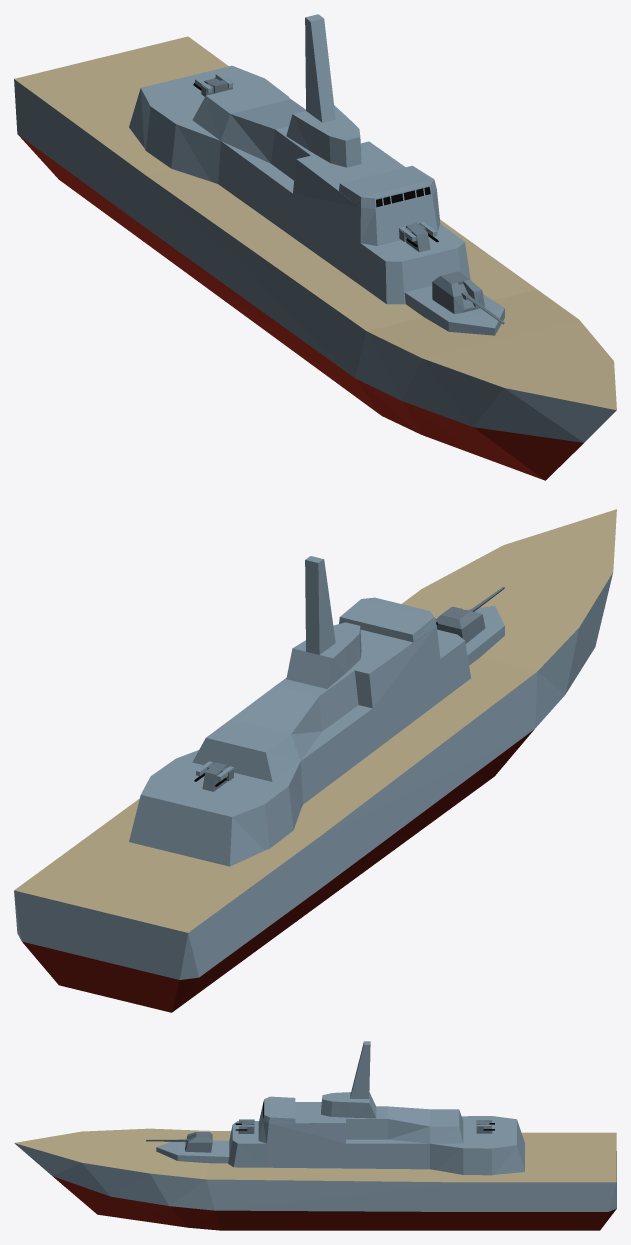
The model's file is Ship2.fbx.
The picture shows the model from 3 angles, top to bottom: view 1: azimuth 30°, elevation 25°; view 2: azimuth 150°, elevation 25°; view 3: azimuth 270°, elevation 25°; orthographic projection. The views are drawn at different scales.
Visible parts, largest first — view 1: Ship_platform, Ship_tower_1, Ship_tower_2, Cube, 120mm cannons_x1, Cube.002; view 2: Ship_platform, Ship_tower_1, Ship_tower_2, Cube, 120mm cannons_x1, Cube.001; view 3: Ship_platform, Ship_tower_1, Ship_tower_2, Cube, 120mm cannons_x1.
Boxes of the visible parts, left/top/right/bottom form: Ship_platform: left=14, top=36, right=616, bottom=480; Ship_tower_1: left=129, top=65, right=470, bottom=304; Ship_tower_2: left=286, top=14, right=361, bottom=167; Cube: left=404, top=286, right=504, bottom=335; 120mm cannons_x1: left=432, top=271, right=484, bottom=313; Cube.002: left=399, top=222, right=438, bottom=252; Ship_platform: left=14, top=509, right=616, bottom=1012; Ship_tower_1: left=129, top=597, right=470, bottom=866; Ship_tower_2: left=286, top=556, right=361, bottom=688; Cube: left=465, top=605, right=504, bottom=665; 120mm cannons_x1: left=436, top=607, right=485, bottom=643; Cube.001: left=194, top=761, right=233, bottom=791; Ship_platform: left=14, top=1128, right=616, bottom=1230; Ship_tower_1: left=228, top=1096, right=524, bottom=1175; Ship_tower_2: left=321, top=1041, right=376, bottom=1118; Cube: left=156, top=1139, right=229, bottom=1163; 120mm cannons_x1: left=185, top=1132, right=212, bottom=1152.
Size of the model in its own units: 95.59 by 148 by 470.
